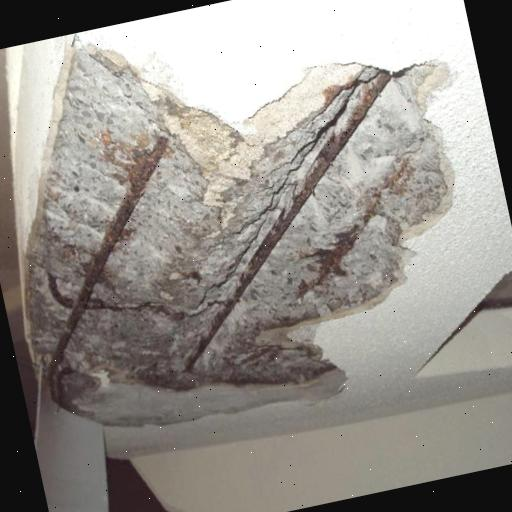spalling: (22, 40, 456, 428)
